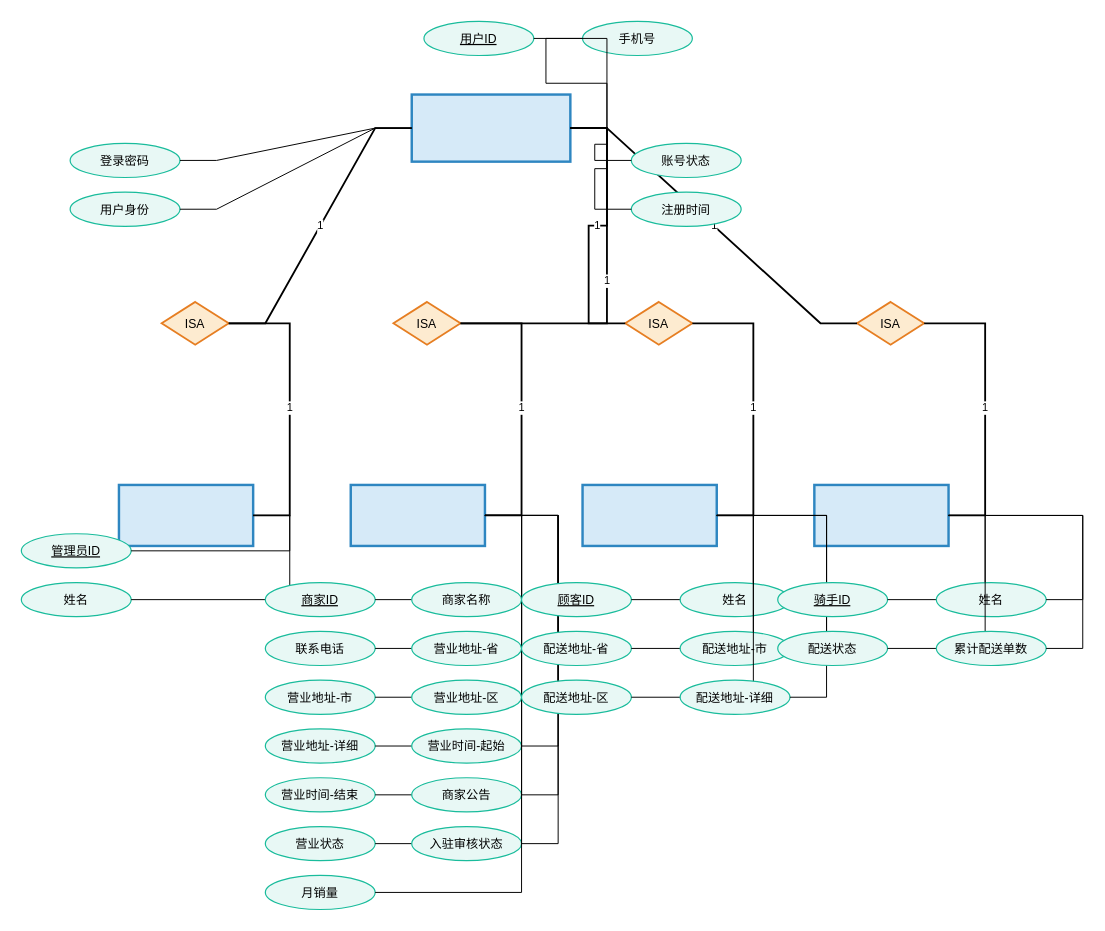
Some shapes in this 1105 by 931 pixel diagram are drawn without their labels. Here are the shapes that lost their labels. From the top down, the centre of each, then its label:
At (490,127): "用户".
At (185,515): "管理员".
At (417,515): "商家".
At (649,515): "顾客".
At (881,515): "骑手".
